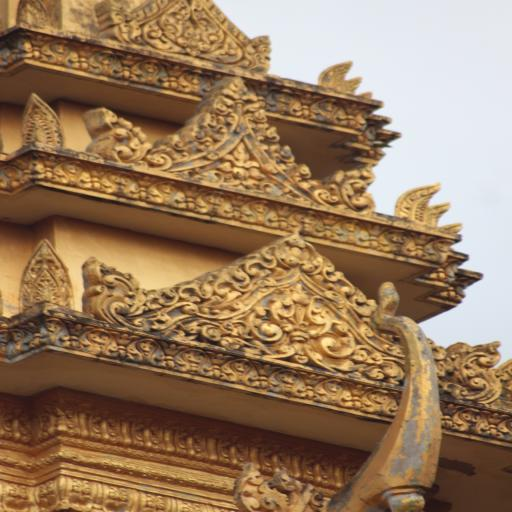la: (242, 291, 348, 372), (144, 0, 239, 66), (81, 254, 142, 326), (351, 315, 406, 380), (448, 341, 508, 399), (90, 104, 146, 165), (20, 244, 70, 306), (144, 280, 216, 321), (21, 92, 66, 147), (96, 0, 144, 50), (212, 352, 261, 390), (243, 468, 284, 512), (337, 164, 378, 208), (395, 182, 446, 217), (213, 154, 263, 189), (166, 343, 214, 379), (261, 363, 308, 399), (282, 231, 319, 276), (120, 335, 166, 371), (40, 400, 80, 439), (149, 174, 188, 211), (303, 446, 339, 486), (312, 374, 352, 410), (372, 224, 417, 255), (176, 422, 210, 463), (0, 401, 34, 442), (284, 204, 327, 236), (318, 259, 354, 296), (81, 327, 118, 363), (62, 474, 96, 512), (240, 244, 278, 278), (241, 194, 279, 228), (132, 414, 164, 454), (239, 33, 273, 70), (210, 266, 249, 298), (262, 438, 292, 479), (86, 409, 121, 444), (331, 214, 367, 248), (219, 430, 249, 470), (194, 188, 234, 218), (98, 172, 146, 196), (54, 160, 95, 188), (320, 59, 357, 88), (346, 286, 381, 316), (453, 406, 488, 436), (145, 142, 188, 166), (0, 482, 34, 512), (362, 384, 396, 414), (100, 481, 132, 512), (420, 234, 454, 263), (36, 473, 60, 512), (195, 110, 234, 134), (2, 325, 32, 356), (487, 411, 512, 445), (182, 129, 217, 152), (38, 318, 66, 346), (425, 202, 459, 224), (292, 158, 314, 192), (138, 490, 170, 512), (312, 181, 338, 207), (272, 141, 296, 169), (209, 91, 232, 118), (341, 74, 367, 94), (173, 496, 205, 512), (260, 122, 280, 143), (246, 99, 262, 124)
